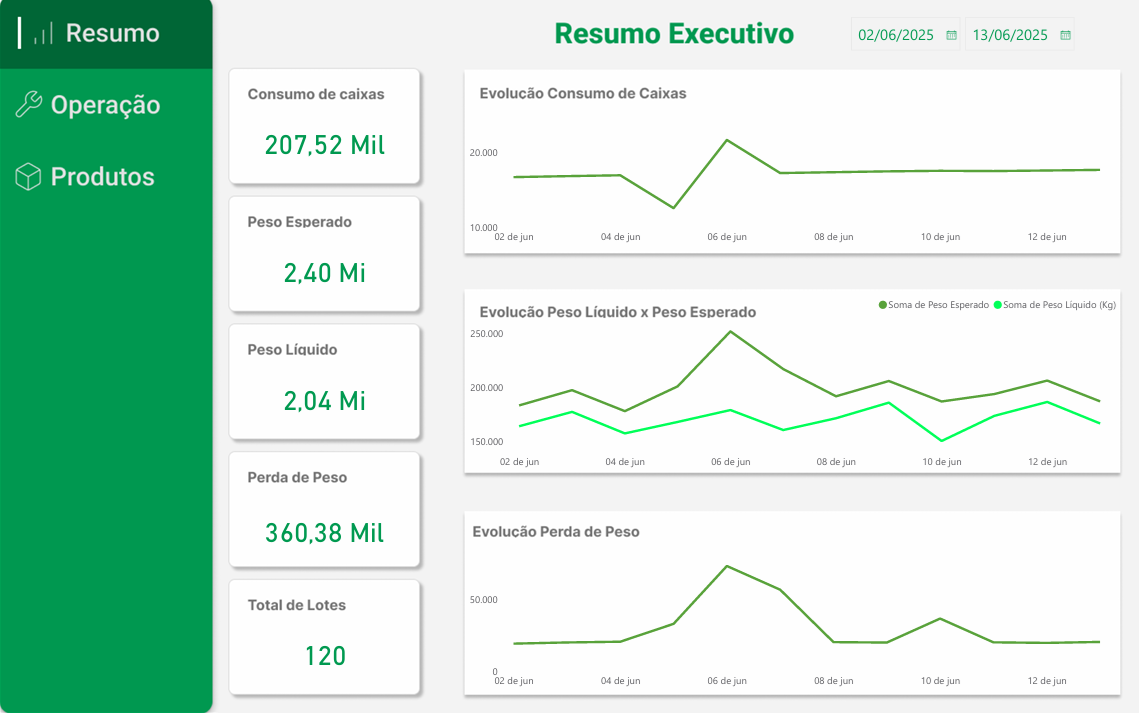

The page's visual inventory and layout, read from the dashboard file:
{"tool":"powerbi","page":{"name":"Resumo","canvas":[1440,900],"ordinal":0},"visuals":[{"type":"card","fields":{"Values":["Fabrica._TotalConsumoCaixa"]},"box":[295.2,129.6,235.8,97.2],"z":0},{"type":"card","fields":{"Values":["Fabrica._TotalPesoLiquido"]},"box":[295.2,450,235.8,97.2],"z":1000},{"type":"card","fields":{"Values":["Fabrica._TotalPesoEsperado"]},"box":[295.2,289.8,235.8,97.2],"z":2000},{"type":"card","fields":{"Values":["Fabrica._TotalPerdaPeso"]},"box":[295.2,612,235.8,102.6],"z":3000},{"type":"card","fields":{"Values":["Fabrica._ContaLote"]},"box":[295.2,765,235.8,106.2],"z":4000},{"type":"slicer","fields":{"Values":["Fabrica.Data Entr. Fábr."]},"box":[1060.2,10.8,354.6,66.6],"z":5000},{"type":"lineChart","fields":{"Category":["Fabrica.Data Entr. Fábr..Variation.Hierarquia de datas.Ano","Fabrica.Data Entr. Fábr..Variation.Hierarquia de datas.Trimestre","Fabrica.Data Entr. Fábr..Variation.Hierarquia de datas.Mês","Fabrica.Data Entr. Fábr..Variation.Hierarquia de datas.Dia"],"Y":["Sum(Fabrica.Consumo de Caixa (cx))"]},"box":[590.4,129.6,824.4,185.4],"z":6000},{"type":"lineChart","fields":{"Category":["Fabrica.Data Entr. Fábr..Variation.Hierarquia de datas.Ano","Fabrica.Data Entr. Fábr..Variation.Hierarquia de datas.Trimestre","Fabrica.Data Entr. Fábr..Variation.Hierarquia de datas.Mês","Fabrica.Data Entr. Fábr..Variation.Hierarquia de datas.Dia"],"Y":["Sum(Fabrica.Peso Esperado)","Sum(Fabrica.Peso Líquido (Kg))"]},"box":[590.4,361.8,824.4,234],"z":7000},{"type":"lineChart","fields":{"Category":["Fabrica.Data Entr. Fábr..Variation.Hierarquia de datas.Ano","Fabrica.Data Entr. Fábr..Variation.Hierarquia de datas.Trimestre","Fabrica.Data Entr. Fábr..Variation.Hierarquia de datas.Mês","Fabrica.Data Entr. Fábr..Variation.Hierarquia de datas.Dia"],"Y":["Sum(Fabrica.Perda Peso)"]},"box":[590.4,682.2,824.4,189],"z":8000},{"type":"actionButton","box":[6,87.3,267.3,90],"z":9000},{"type":"actionButton","box":[6,178,267.3,90],"z":10000}]}

Visuals, with their boxes on the page's 1440x900 design canvas (x1, y1, x2, y2). These are canvas units, not pixel positions in the 1139x713 screenshot, which may show the page scaled, cropped or inside an application window:
card - Fabrica._TotalConsumoCaixa: (295,130,531,227)
card - Fabrica._TotalPesoLiquido: (295,450,531,547)
card - Fabrica._TotalPesoEsperado: (295,290,531,387)
card - Fabrica._TotalPerdaPeso: (295,612,531,715)
card - Fabrica._ContaLote: (295,765,531,871)
slicer - Fabrica.Data Entr. Fábr.: (1060,11,1415,77)
lineChart - Fabrica.Data Entr. Fábr..Variation.Hierarquia de datas.Ano x Fabrica.Data Entr. Fábr..Variation.Hierarquia de datas.Trimestre: (590,130,1415,315)
lineChart - Fabrica.Data Entr. Fábr..Variation.Hierarquia de datas.Ano x Fabrica.Data Entr. Fábr..Variation.Hierarquia de datas.Trimestre: (590,362,1415,596)
lineChart - Fabrica.Data Entr. Fábr..Variation.Hierarquia de datas.Ano x Fabrica.Data Entr. Fábr..Variation.Hierarquia de datas.Trimestre: (590,682,1415,871)
actionButton: (6,87,273,177)
actionButton: (6,178,273,268)
